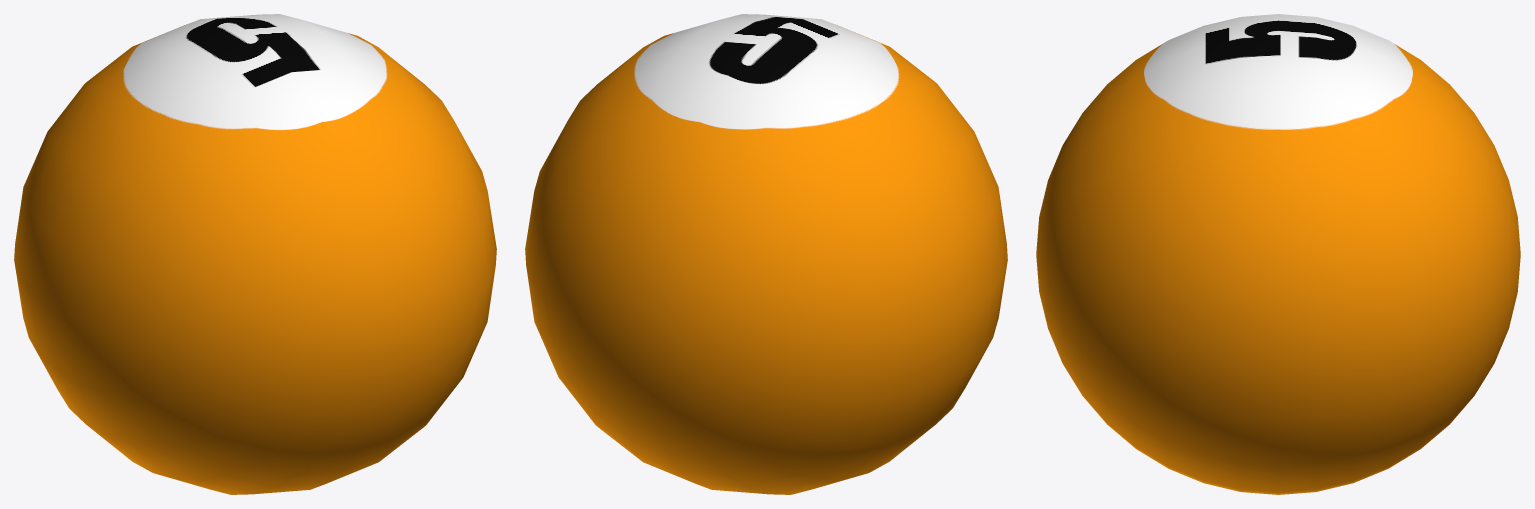
File: ball5.fbx
The picture shows the model from 3 angles, left to right: view 1: azimuth 30°, elevation 25°; view 2: azimuth 150°, elevation 25°; view 3: azimuth 270°, elevation 25°; orthographic projection.
Visible parts, largest first — view 1: pSphere1; view 2: pSphere1; view 3: pSphere1.
Boxes of the visible parts, <box> form: pSphere1: <box>14,14,496,494</box>; pSphere1: <box>525,14,1007,494</box>; pSphere1: <box>1036,14,1520,494</box>.
Bounding box in the file's own units: 2 × 2 × 2.
